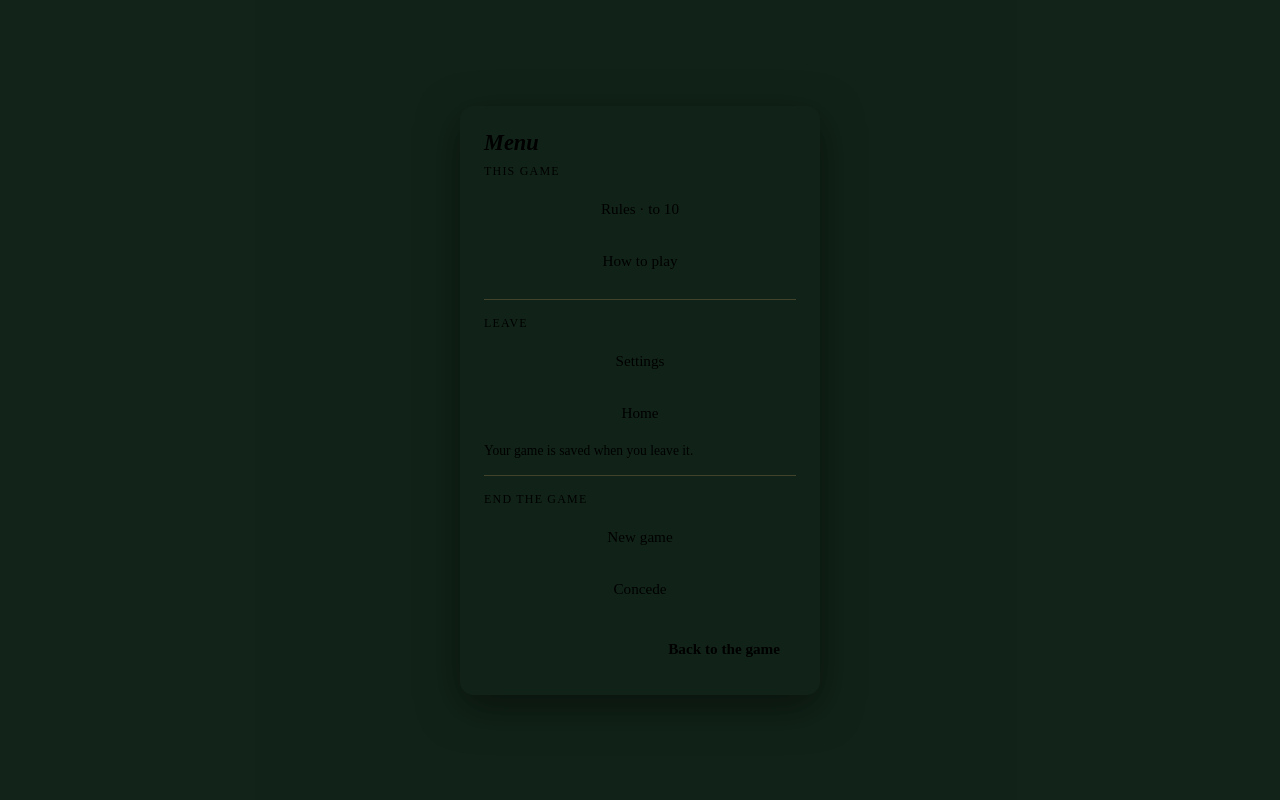
Scenario: GameMenu (GF-8) › shows the rules for this game, then comes back to the menu
Click the button "Rules · to 10" at (640, 208), box [484,186,796,230]
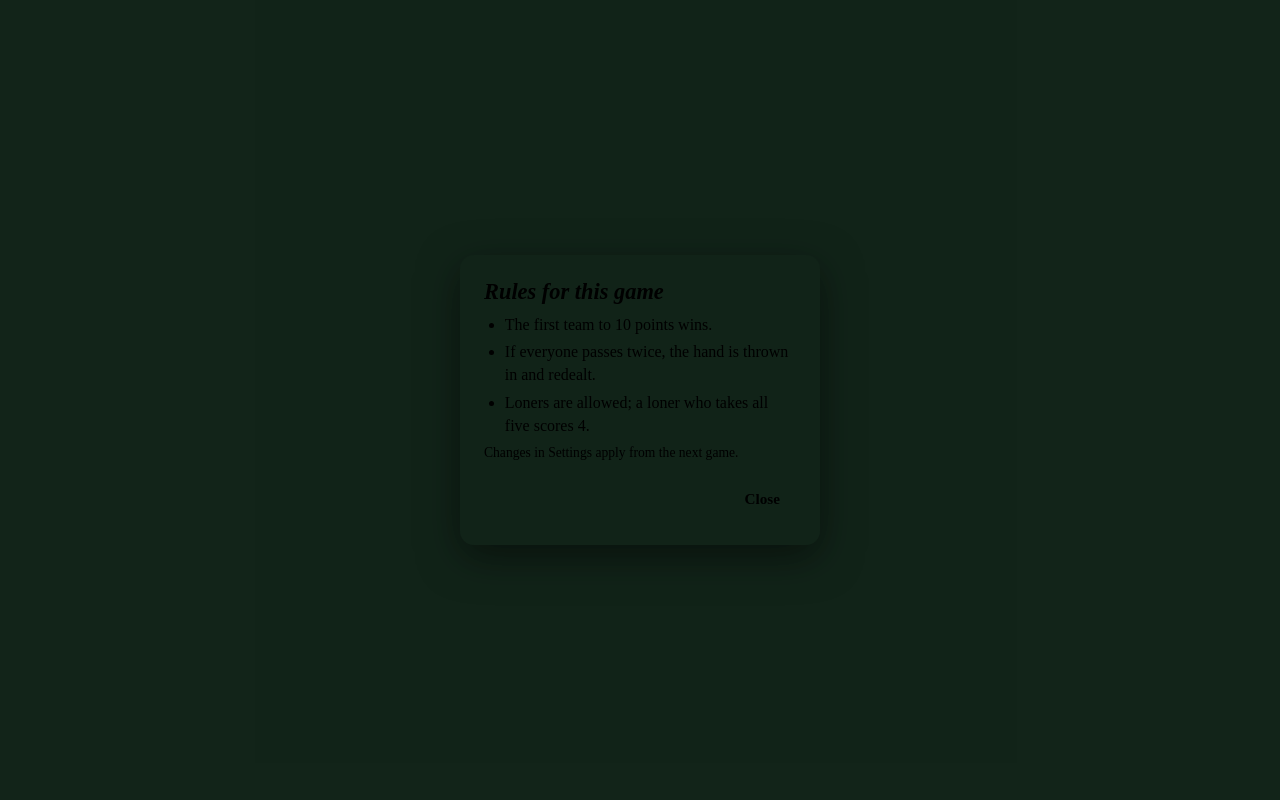
Result: the dialog "Rules for this game" is shown at [460,255,820,545]
Press Escape
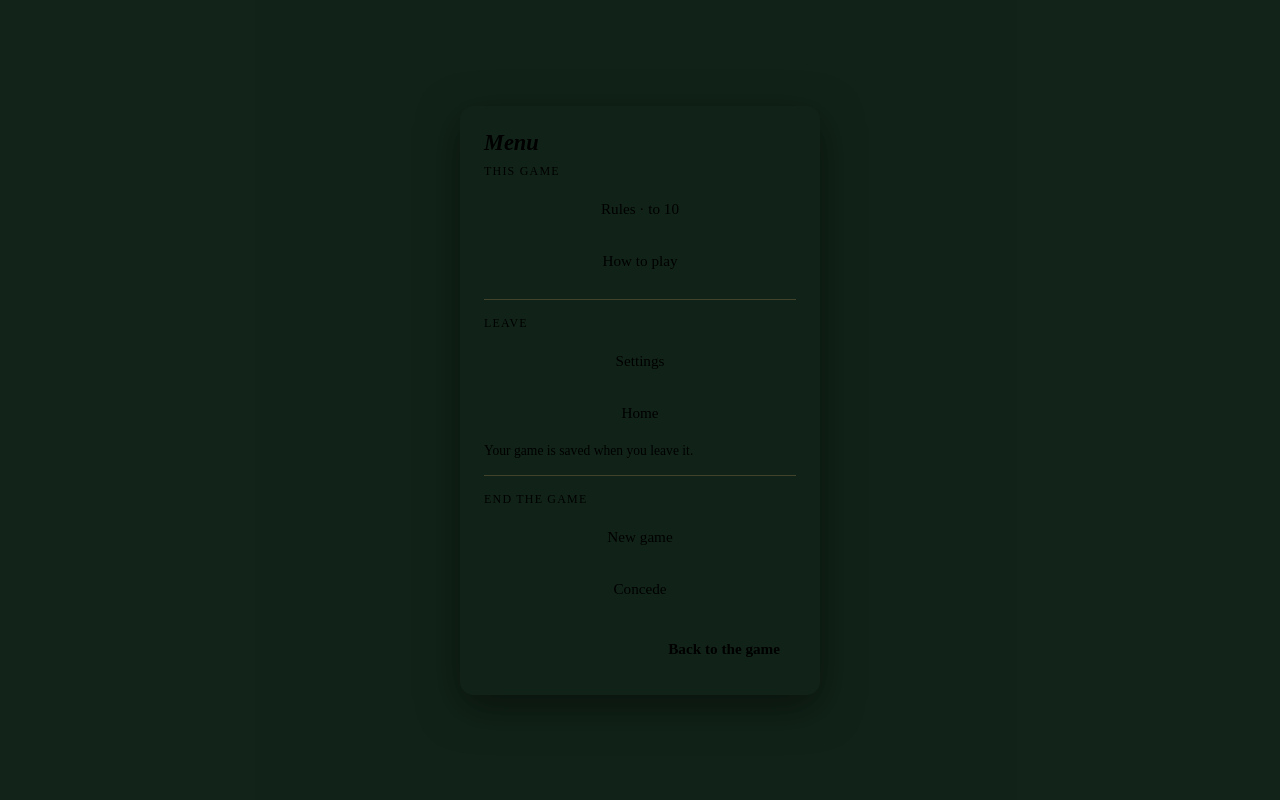
Result: the dialog "Menu" is shown at [460,106,820,694]
